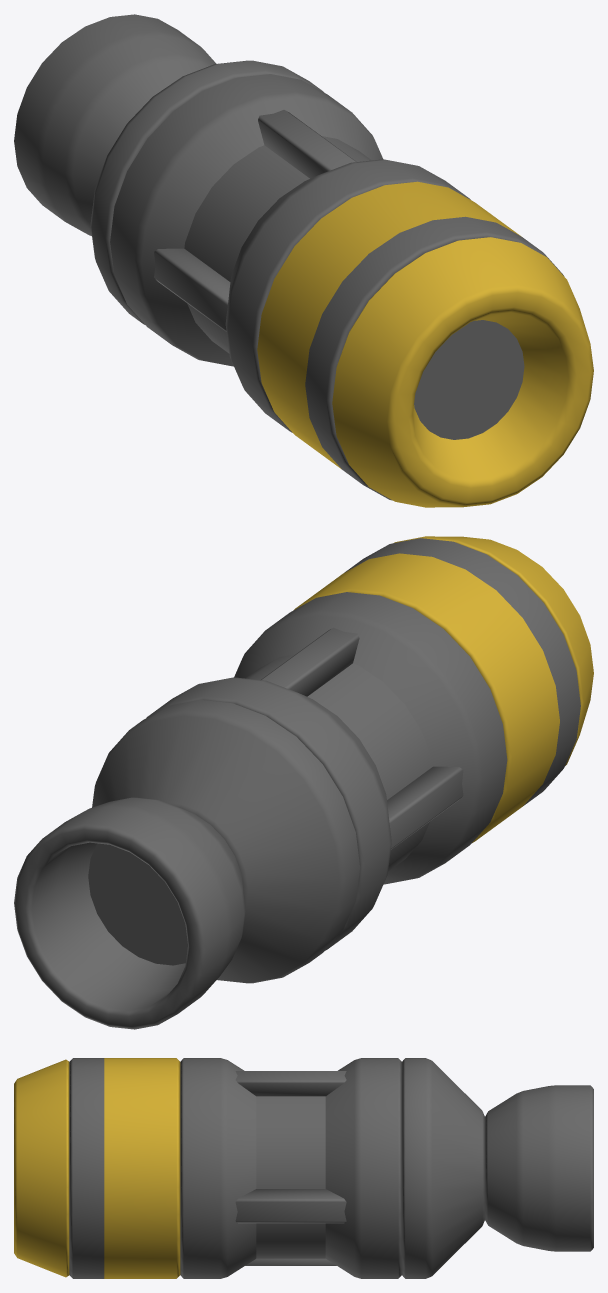
Rendered from Lowpoly_Engine.fbx.
3 renders of one model, top to bottom at view 1: azimuth 30°, elevation 25°; view 2: azimuth 150°, elevation 25°; view 3: azimuth 270°, elevation 25°, orthographic. The views are drawn at different scales.
Visible parts, largest first — view 1: Cylinder.002; view 2: Cylinder.002; view 3: Cylinder.002.
Boxes of the visible parts, <box> form: Cylinder.002: <box>14,14,593,507</box>; Cylinder.002: <box>14,536,593,1029</box>; Cylinder.002: <box>14,1058,593,1278</box>.
Size of the model in its own units: 200 by 200 by 523.
